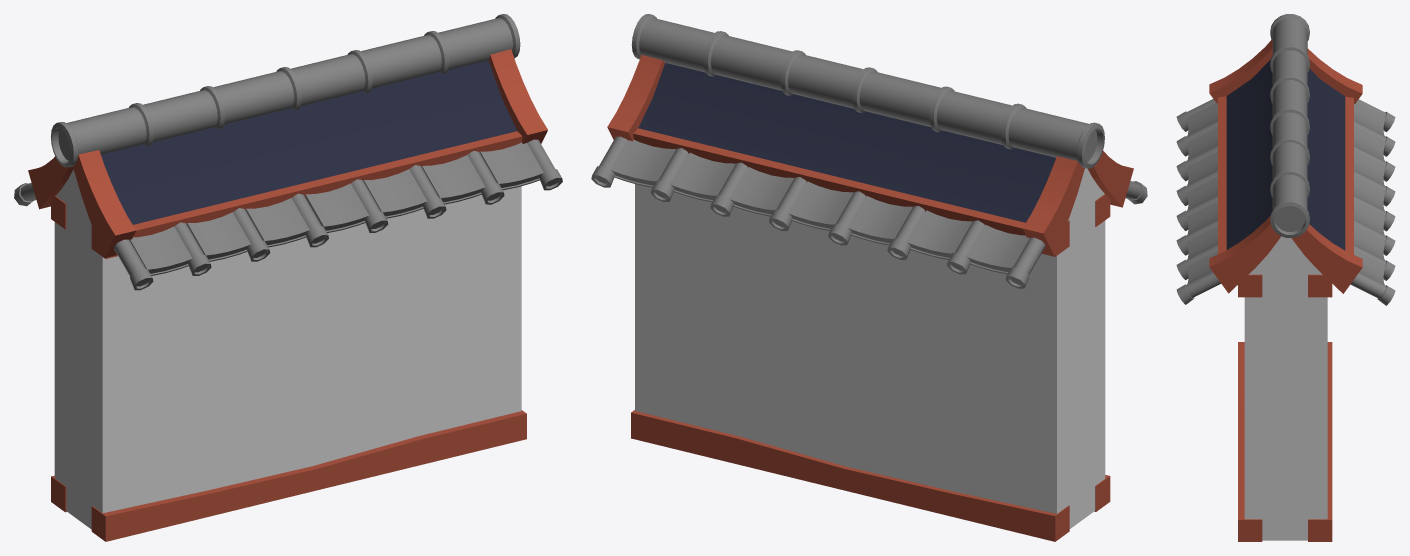
The model's file is SM_wall_modular_03.fbx.
The picture shows the model from 3 angles, left to right: view 1: azimuth 30°, elevation 25°; view 2: azimuth 150°, elevation 25°; view 3: azimuth 270°, elevation 25°; orthographic projection. The views are drawn at different scales.
Parts seen in each view (by area): view 1: Object32475; view 2: Object32475; view 3: Object32475.
Part boxes in pixels (left/top/right/bottom): Object32475: left=14, top=14, right=562, bottom=541; Object32475: left=591, top=14, right=1147, bottom=541; Object32475: left=1176, top=14, right=1395, bottom=541.
Bounding box in the file's own units: 149 × 127 × 72.96.
